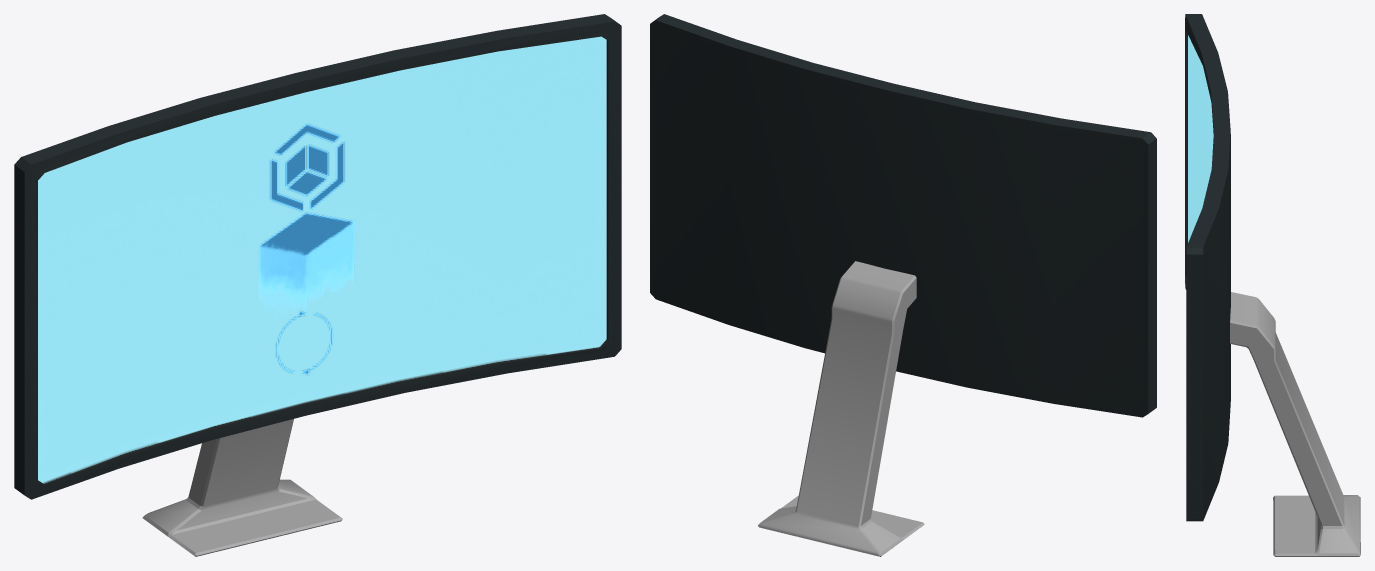
Rendered from Computer1.fbx.
The picture shows the model from 3 angles, left to right: view 1: azimuth 30°, elevation 25°; view 2: azimuth 150°, elevation 25°; view 3: azimuth 270°, elevation 25°; orthographic projection. The views are drawn at different scales.
Visible parts, largest first — view 1: Computer1; view 2: Computer1; view 3: Computer1.
Part boxes in pixels (<box>): Computer1: <box>14,14,621,556</box>; Computer1: <box>650,14,1156,556</box>; Computer1: <box>1185,14,1360,556</box>.
Size of the model in its own units: 439 by 341 by 137.
